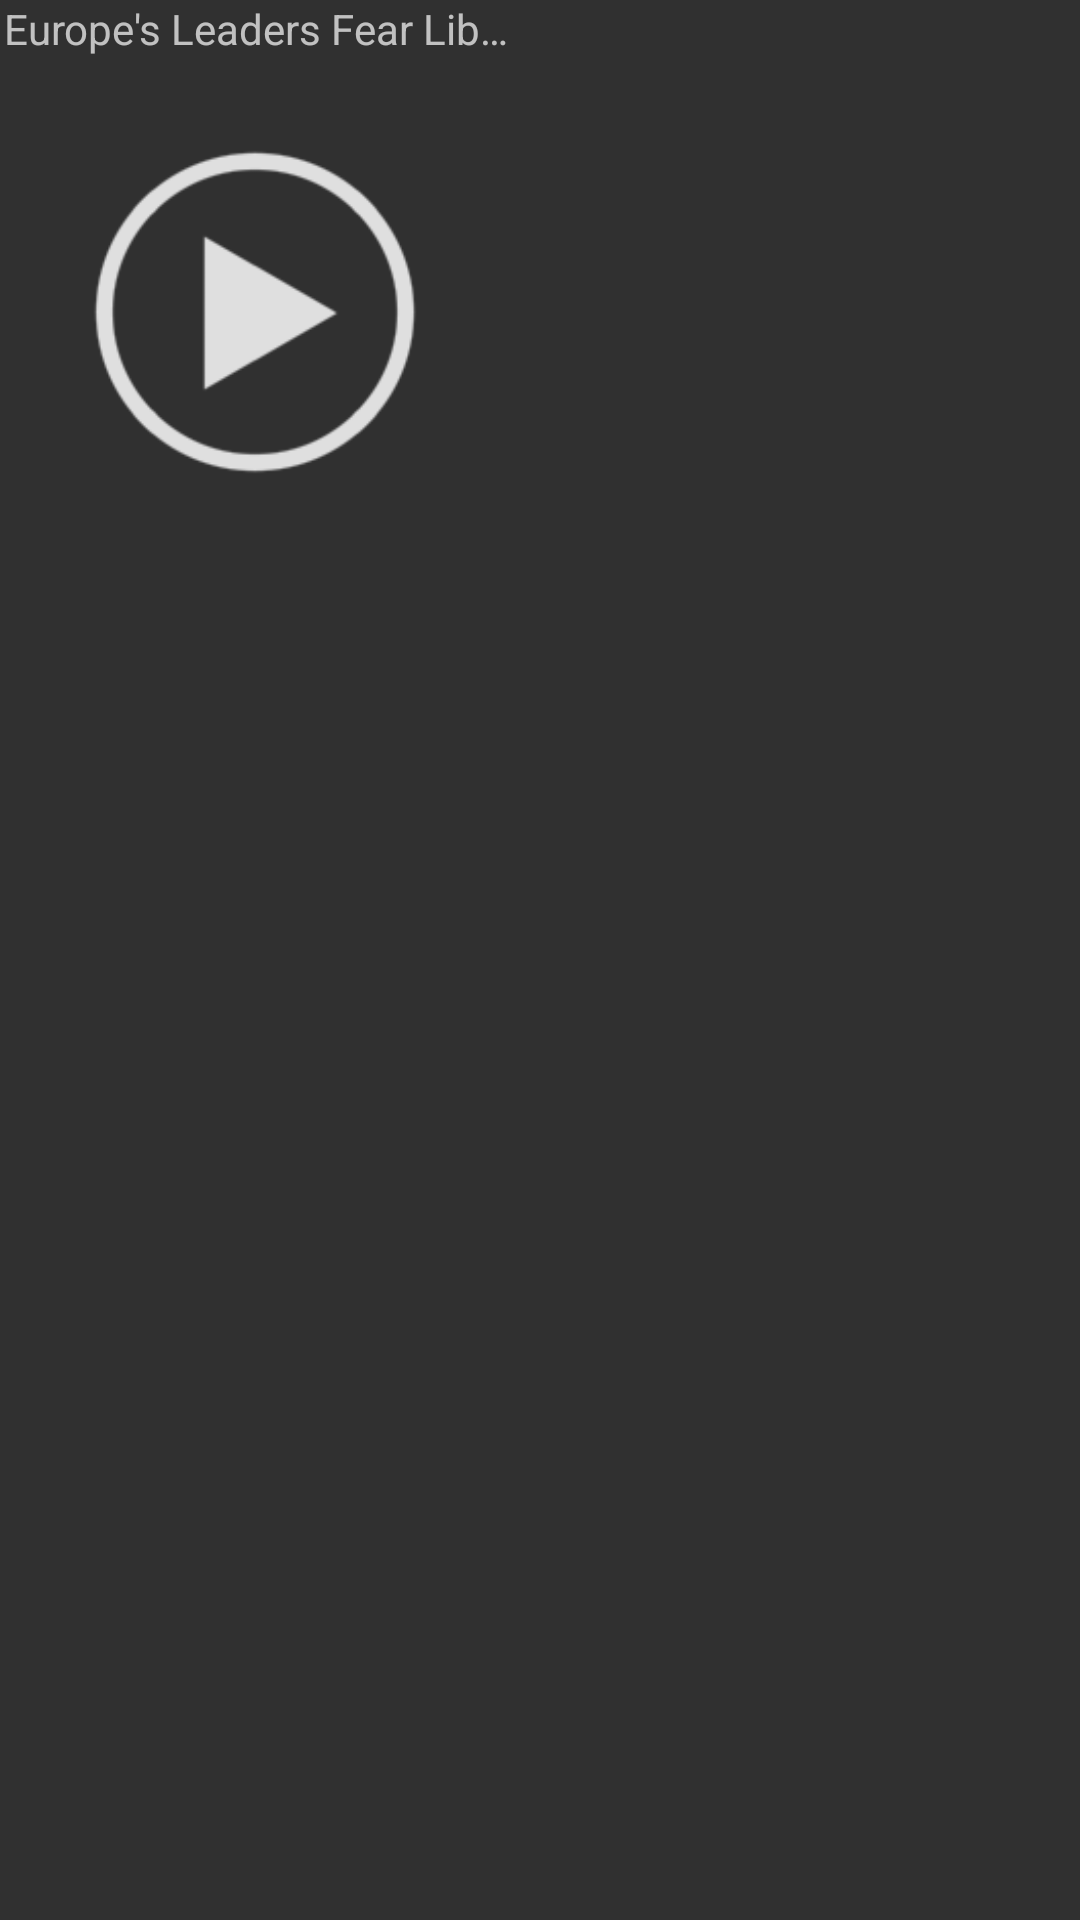

Point at icon controls on the screen. Image size 1080*1920, points as (x=x, y=y).
play video: (x=255, y=312)
